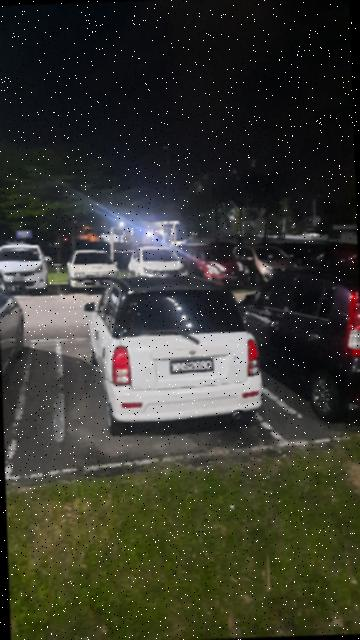License_Plate: (169, 357, 215, 376)
car: (82, 271, 266, 432), (243, 265, 360, 421), (191, 244, 253, 292), (1, 242, 53, 296), (66, 246, 124, 294), (133, 244, 190, 288), (255, 243, 304, 292)
